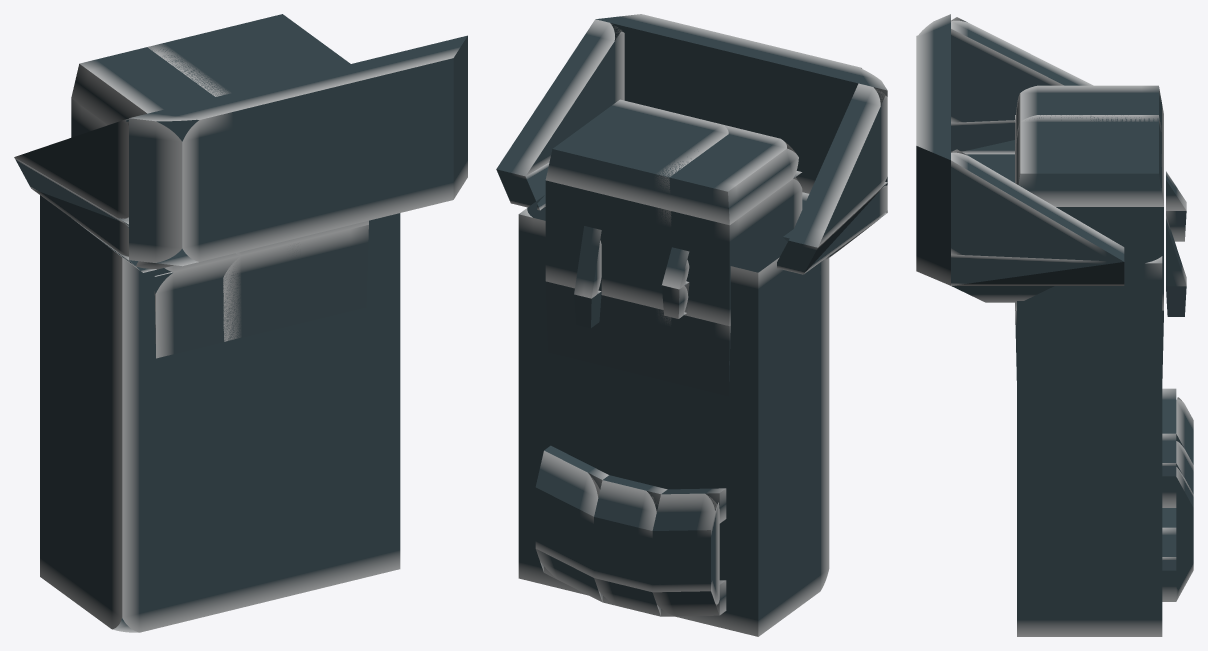
File: hoodie4.obj
3 views of the same model, side by side, from view 1: azimuth 30°, elevation 25°; view 2: azimuth 150°, elevation 25°; view 3: azimuth 270°, elevation 25° (orthographic). The views are drawn at different scales.
Parts seen in each view (by area): view 1: bodyModel0, bodyModel17, leftArmModel1, leftArmModel2, rightArmModel2, rightArmModel1, bodyModel16, bodyModel19, rightArmModel0; view 2: bodyModel0, bodyModel17, rightArmModel0, leftArmModel2, leftArmModel0, rightArmModel2, bodyModel20, bodyModel16, rightArmModel1, bodyModel3, leftArmModel1, bodyModel4 (+9 smaller); view 3: bodyModel0, leftArmModel2, bodyModel20, bodyModel17, bodyModel16, bodyModel21, rightArmModel2, leftArmModel0, bodyModel19, bodyModel4, bodyModel18, bodyModel13 (+10 smaller).
Boxes of the visible parts, x1,y1,x2,y2 form: bodyModel0: [40, 195, 400, 632]; bodyModel17: [129, 35, 467, 266]; leftArmModel1: [223, 225, 368, 341]; leftArmModel2: [147, 14, 350, 96]; rightArmModel2: [71, 31, 277, 124]; rightArmModel1: [154, 243, 298, 358]; bodyModel16: [14, 119, 162, 224]; bodyModel19: [14, 157, 128, 259]; rightArmModel0: [71, 98, 293, 276]; bodyModel0: [518, 195, 829, 636]; bodyModel17: [596, 14, 887, 212]; rightArmModel0: [604, 177, 802, 326]; leftArmModel2: [545, 99, 728, 210]; leftArmModel0: [545, 180, 671, 309]; rightArmModel2: [605, 124, 801, 225]; bodyModel20: [496, 19, 624, 176]; bodyModel16: [789, 83, 887, 247]; rightArmModel1: [604, 295, 730, 396]; bodyModel3: [652, 493, 719, 616]; leftArmModel1: [545, 281, 671, 382]; bodyModel4: [535, 450, 602, 601]; bodyModel0: [1017, 256, 1162, 636]; leftArmModel2: [1015, 115, 1163, 206]; bodyModel20: [951, 149, 1124, 261]; bodyModel17: [916, 14, 950, 285]; bodyModel16: [951, 17, 1093, 122]; bodyModel21: [951, 254, 1124, 285]; rightArmModel2: [1015, 85, 1163, 151]; leftArmModel0: [1015, 207, 1163, 310]; bodyModel19: [951, 120, 1014, 154]; bodyModel4: [1176, 467, 1193, 601]; bodyModel18: [951, 154, 1054, 302]; bodyModel13: [1166, 216, 1186, 286].
Size of the model in its own units: 11 by 15.6 by 8.
